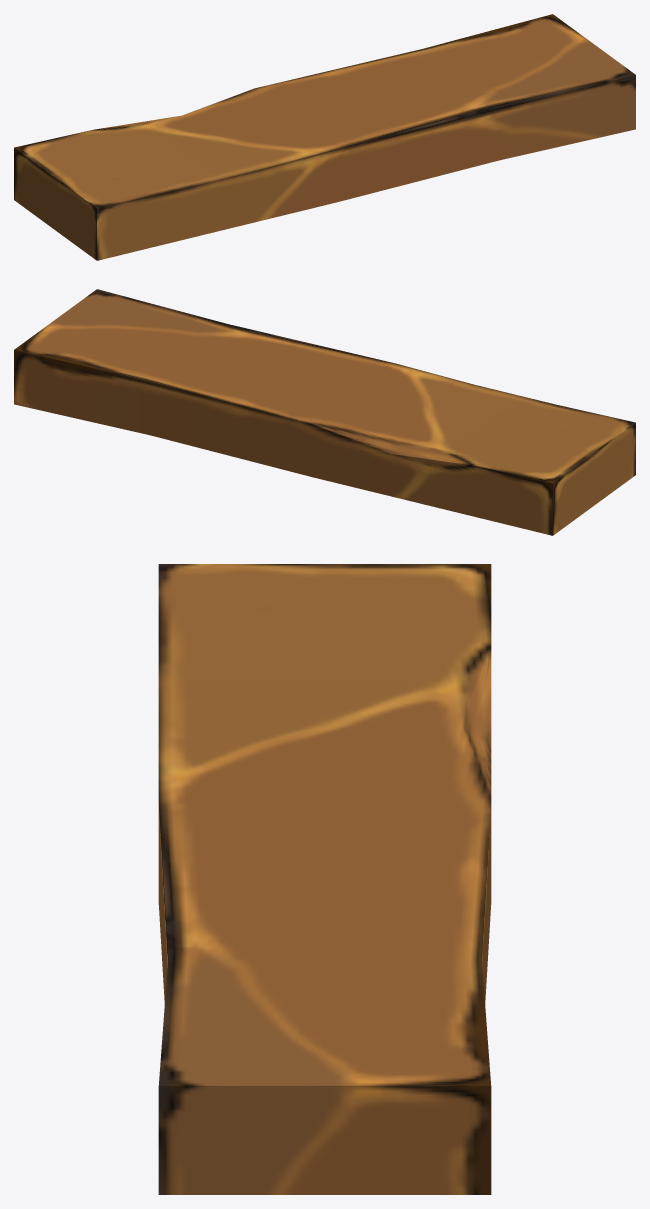
The model's file is Moonset_FBX_dalle_08.fbx.
The picture shows the model from 3 angles, top to bottom: view 1: azimuth 30°, elevation 25°; view 2: azimuth 150°, elevation 25°; view 3: azimuth 270°, elevation 25°; orthographic projection. The views are drawn at different scales.
Parts seen in each view (by area): view 1: Dalle_08; view 2: Dalle_08; view 3: Dalle_08.
Boxes of the visible parts, x1,y1,x2,y2 form: Dalle_08: (14, 14, 635, 260); Dalle_08: (14, 289, 635, 535); Dalle_08: (158, 564, 491, 1194).
Size of the model in its own units: 5.37 by 0.5191 by 1.43.
